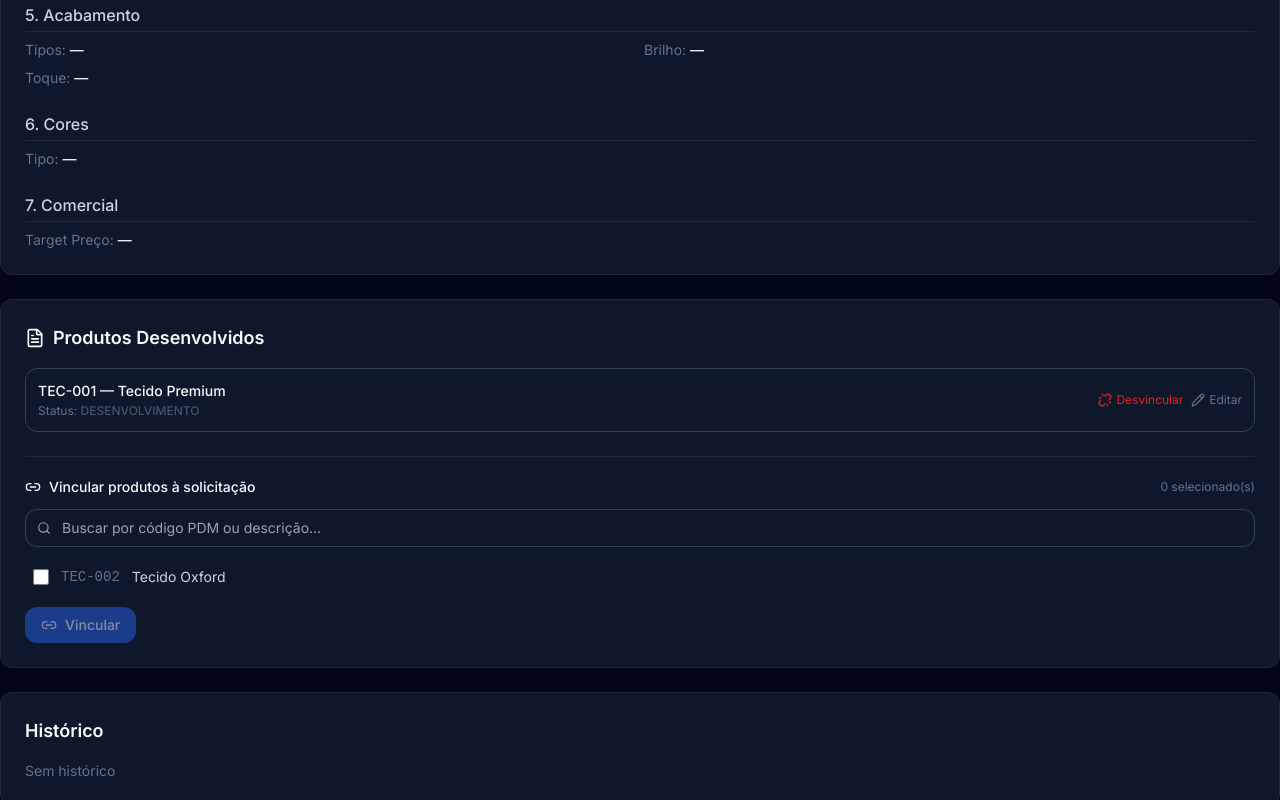
DetalheSolicitacaoPage › desvincula um produto da solicitação
The width and height of the screenshot is (1280, 800).
(page scrolled)
Click the button "Desvincular".
click(1141, 400)  # box x1=1098 y1=392 x2=1183 y2=408
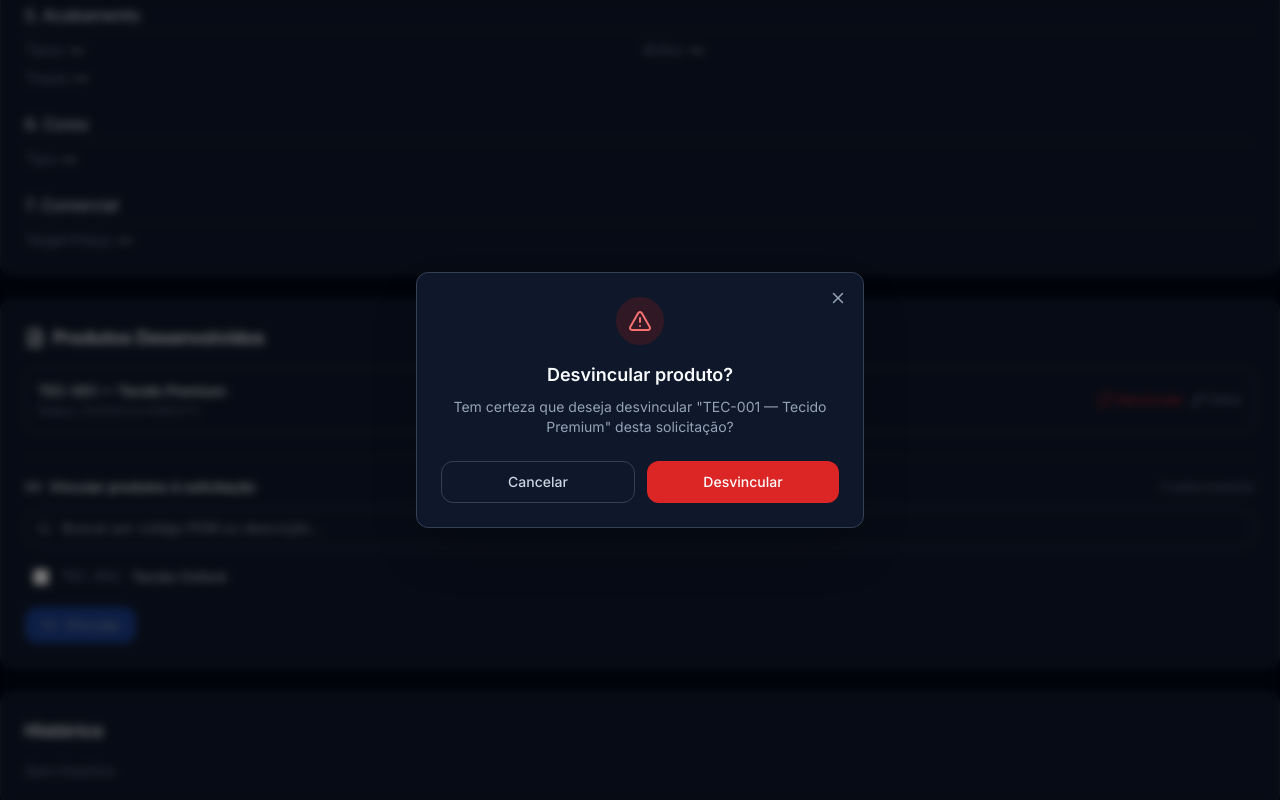
Click the button "Desvincular".
click(743, 482)  # box x1=647 y1=461 x2=839 y2=503
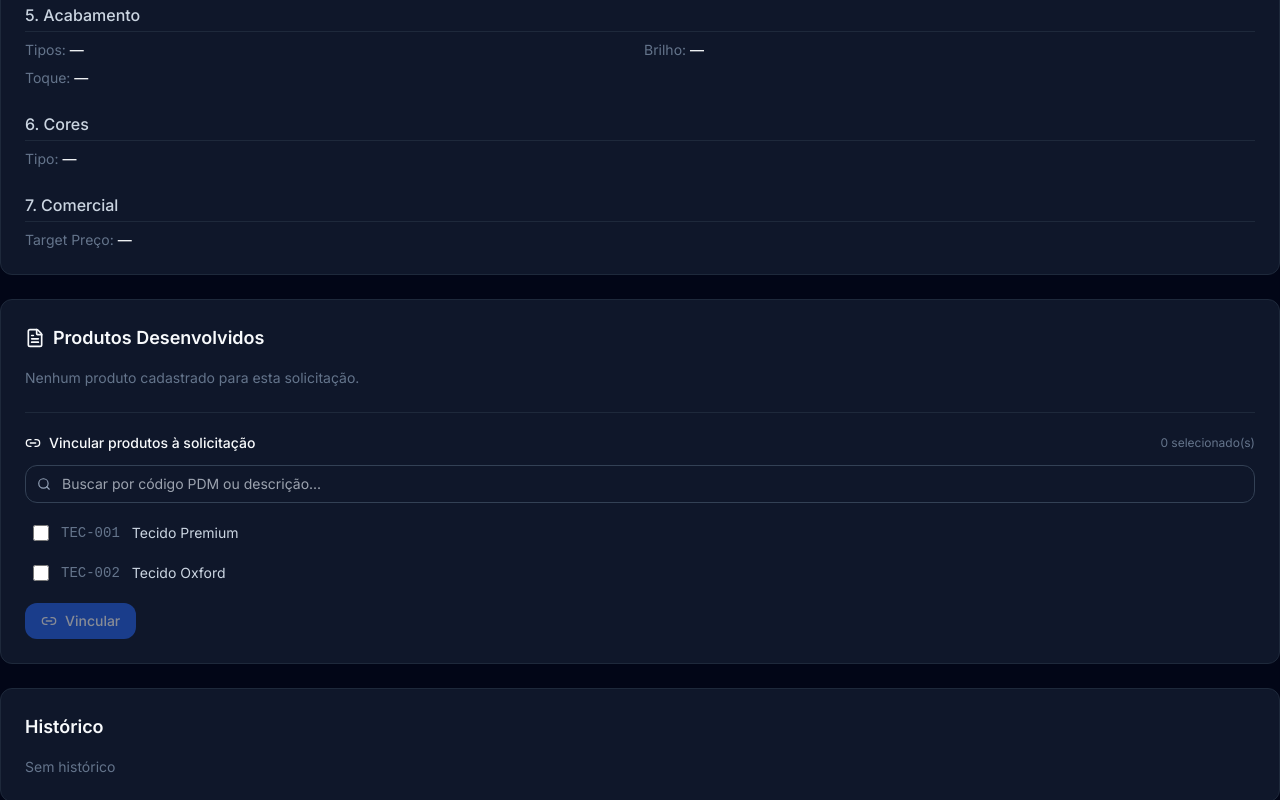
Result: the text "Nenhum produto cadastrado para esta solicitação." is shown at x1=25 y1=369 x2=359 y2=386
